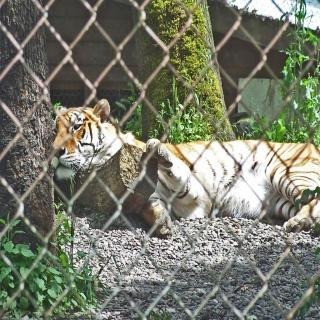Tiger: (51, 98, 320, 239)
